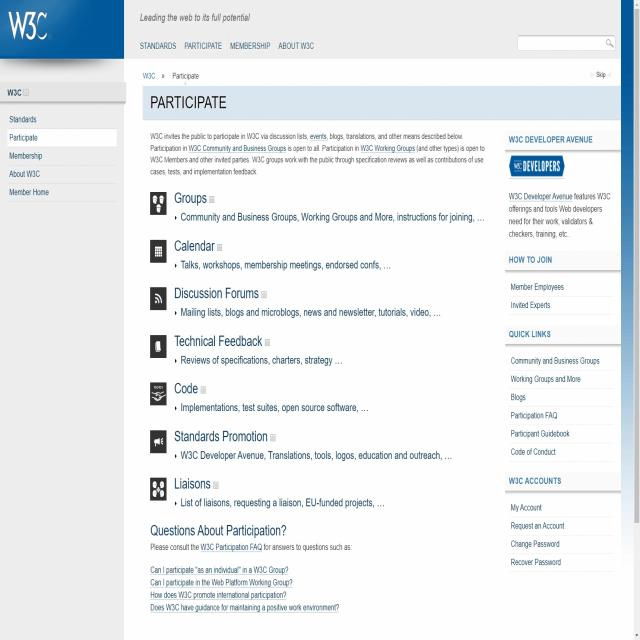content: (5, 109, 119, 202)
menu-bar: (138, 33, 318, 57)
search: (516, 33, 616, 52)
side-panel: (503, 130, 621, 575)
